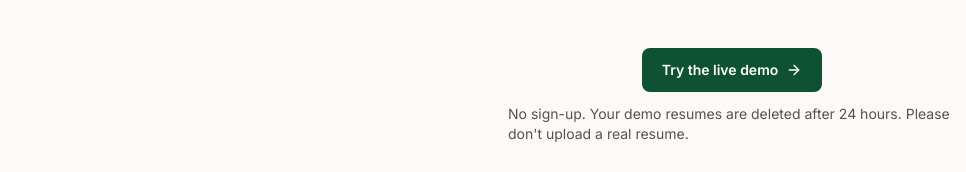
it: StartDemoButton › starts a guest and opens the sample resume
The width and height of the screenshot is (966, 172).
Click the button "Try the live demo".
click(732, 70)  # box x1=642 y1=48 x2=822 y2=92
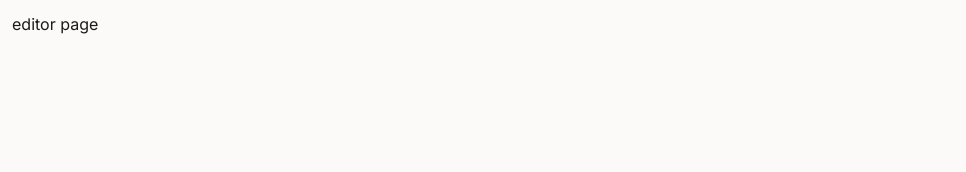
Now the text "editor page" is shown, box x1=12 y1=14 x2=98 y2=34
